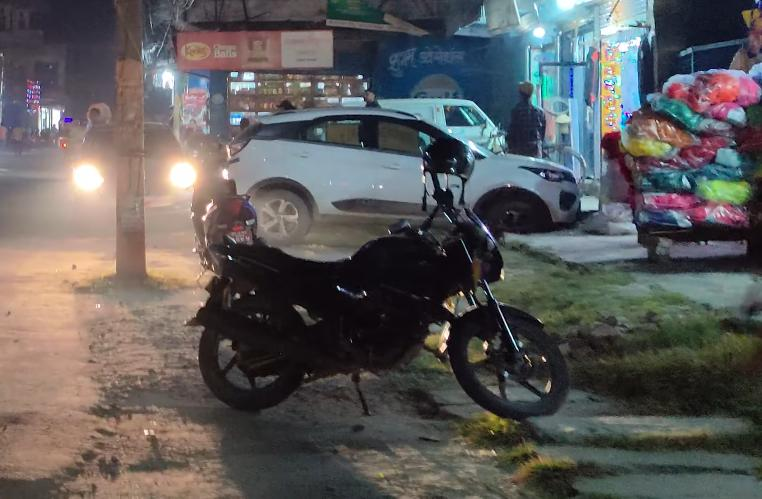bike: (184, 144, 574, 421)
